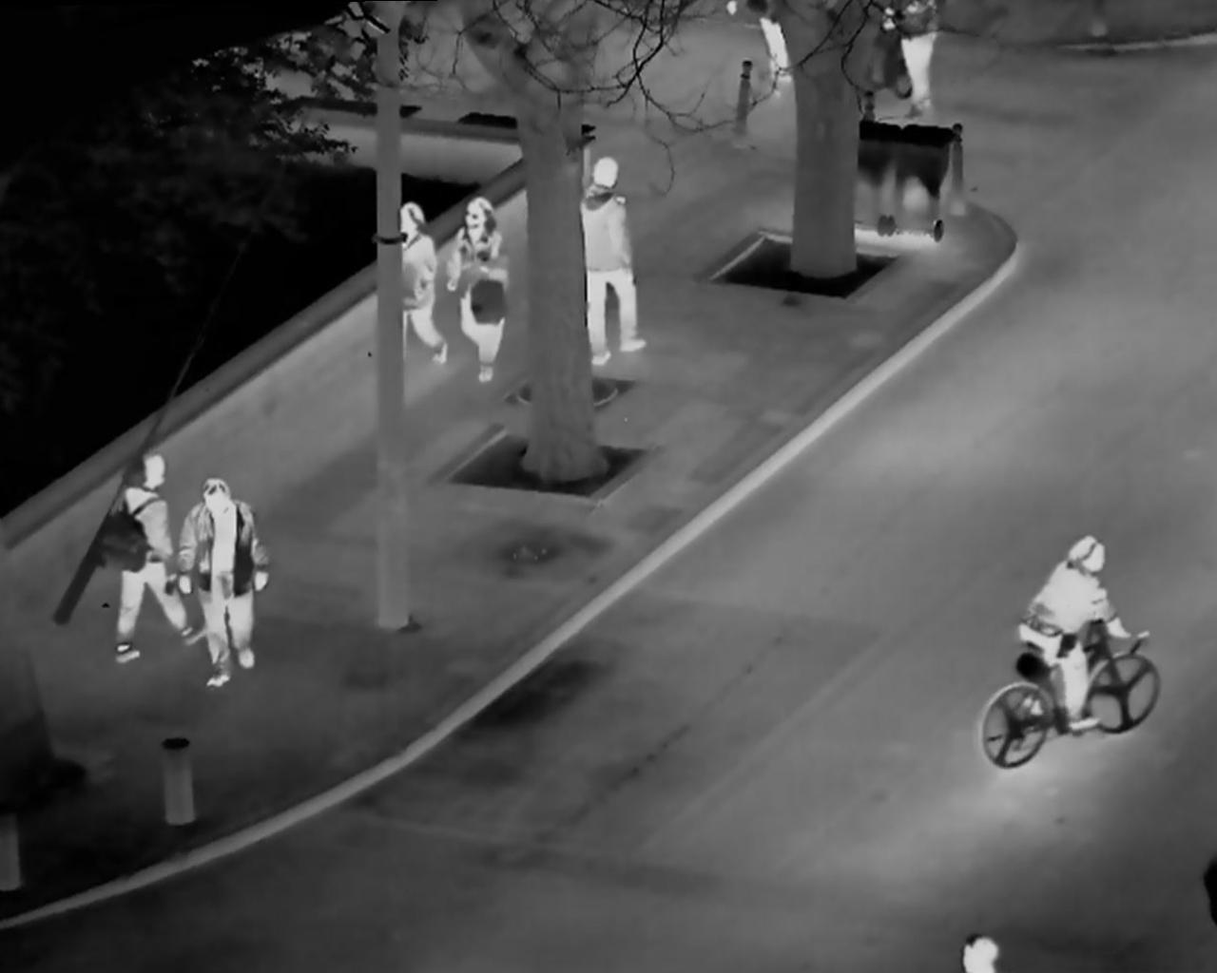person: (984, 512, 1155, 780), (169, 476, 299, 690), (91, 438, 194, 667), (432, 184, 528, 395), (570, 146, 648, 389), (374, 183, 448, 381), (716, 3, 792, 86), (949, 931, 1006, 973)
